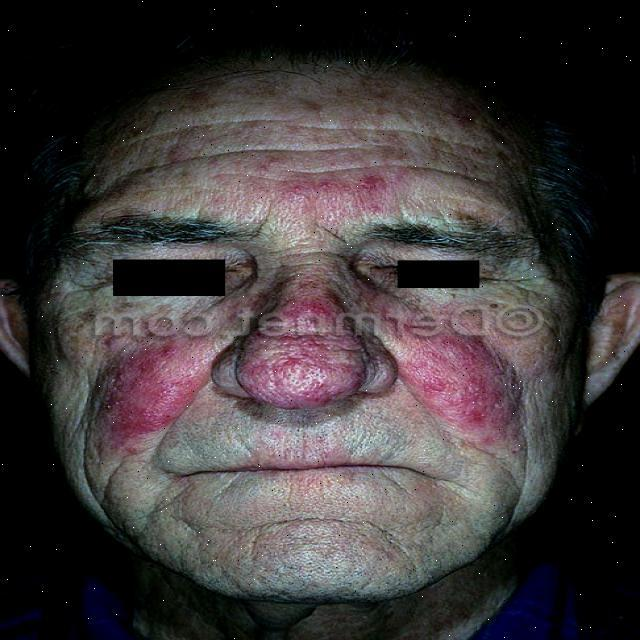images: (0, 5, 639, 638)
